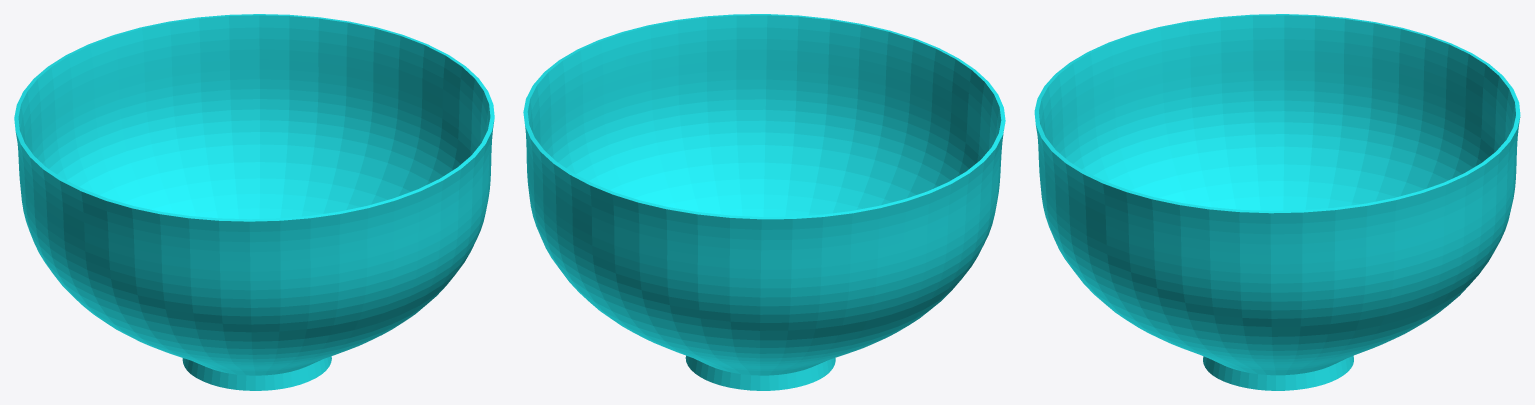
File: bowl.glb
3 renders of one model, left to right at view 1: azimuth 30°, elevation 25°; view 2: azimuth 150°, elevation 25°; view 3: azimuth 270°, elevation 25°, orthographic.
Visible parts, largest first — view 1: bowl_1; view 2: bowl_1; view 3: bowl_1.
Part boxes in pixels (x1,y1,x2,y2): bowl_1: [14, 14, 494, 390]; bowl_1: [523, 14, 1005, 390]; bowl_1: [1034, 14, 1520, 390].
Size of the model in its own units: 0.9918 by 0.5652 by 0.9919.
